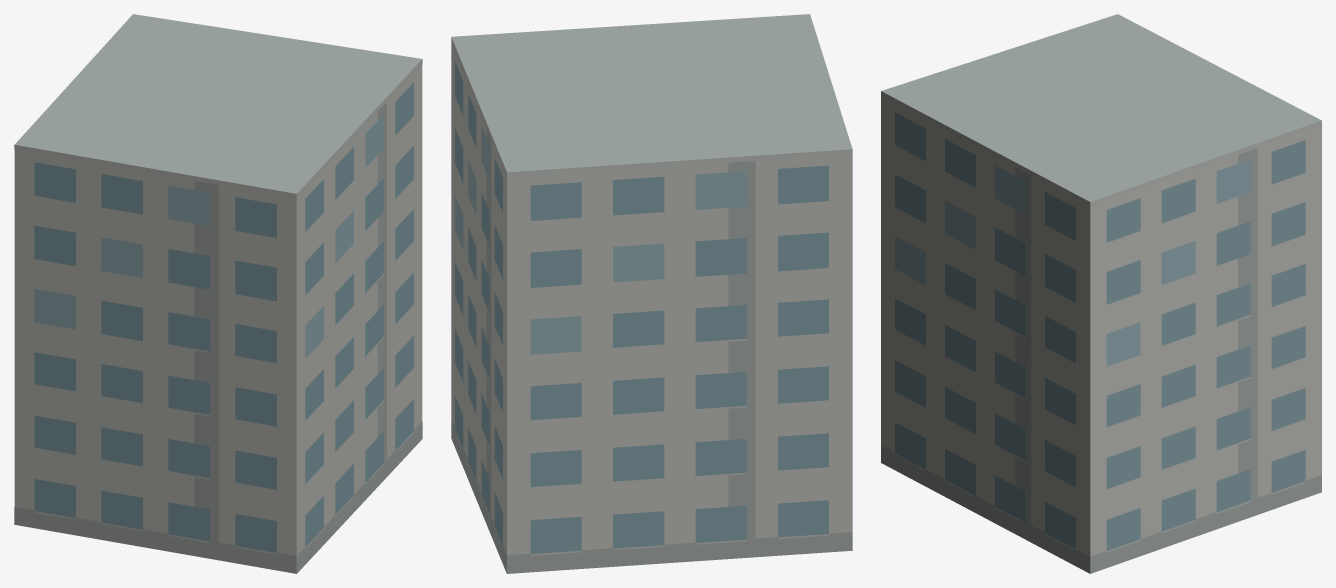
The model's file is survey-upis-32835666.glb.
3 views of the same model, side by side, from view 1: azimuth 30°, elevation 25°; view 2: azimuth 150°, elevation 25°; view 3: azimuth 270°, elevation 25° (orthographic). The views are drawn at different scales.
Visible parts, largest first — view 1: survey-upis-32835666.tmp; view 2: survey-upis-32835666.tmp; view 3: survey-upis-32835666.tmp.
Part boxes in pixels (box(x1,y1,x2,y2)): survey-upis-32835666.tmp: box(14, 14, 422, 573); survey-upis-32835666.tmp: box(451, 14, 852, 573); survey-upis-32835666.tmp: box(881, 14, 1321, 573).
Bounding box in the file's own units: 20.78 × 19.15 × 20.58.
